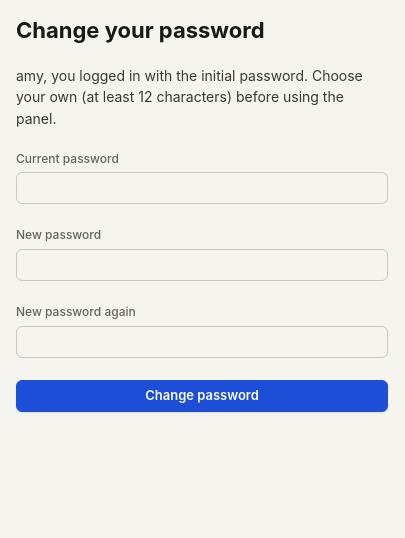
Scenario: AuthGate (spec §7) › checks a short or mistyped new password before sending it
Type "0123456789abcdef" into the password field labelled "Current password" at {"x": 202, "y": 188}, box [16, 172, 388, 204]
Type "short" into the password field labelled "New password" at {"x": 202, "y": 265}, box [16, 249, 388, 281]
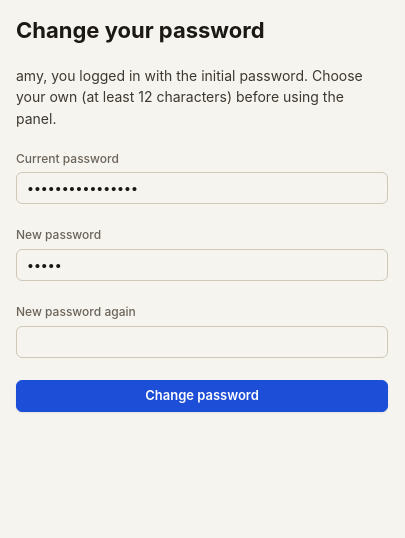
Type "short" into the password field labelled "New password again" at {"x": 202, "y": 342}, box [16, 326, 388, 358]
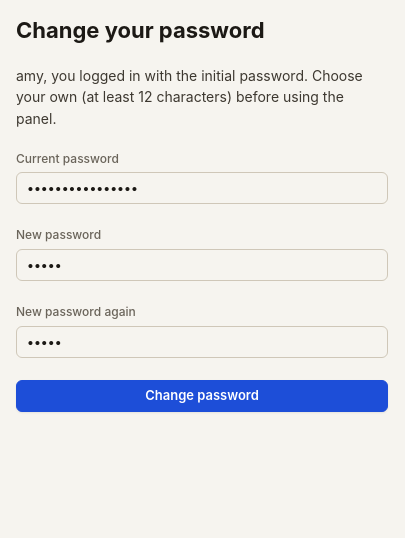
Click the button "Change password" at {"x": 202, "y": 396}, box [16, 380, 388, 412]
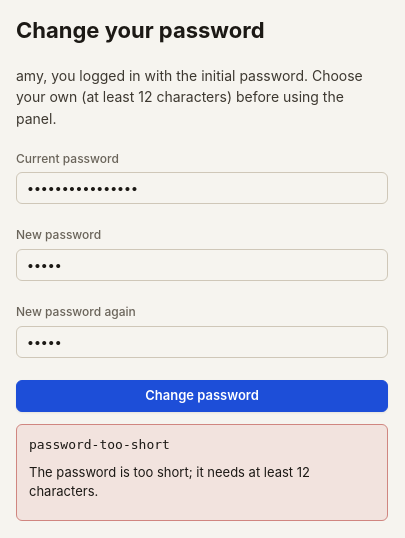
Check: the text "The password is too short; it needs at least 12 characters." is shown, box [29, 464, 310, 499]
Type "a long new password" into the password field labelled "New password" at {"x": 202, "y": 265}, box [16, 249, 388, 281]
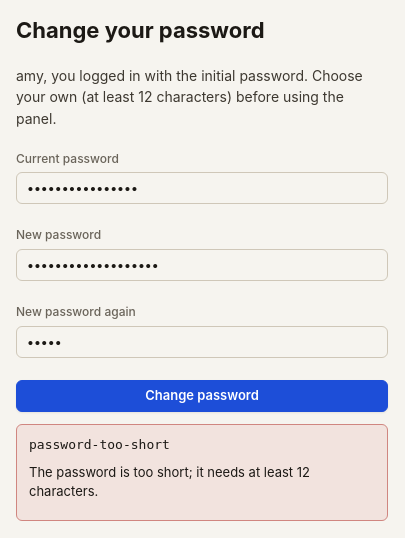
Type "a long new passw0rd" into the password field labelled "New password again" at {"x": 202, "y": 342}, box [16, 326, 388, 358]
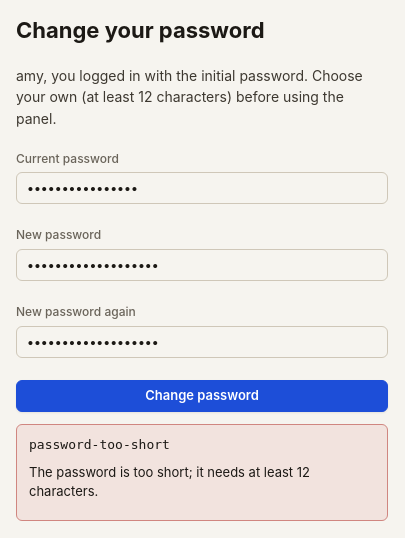
Click the button "Change password" at {"x": 202, "y": 396}, box [16, 380, 388, 412]
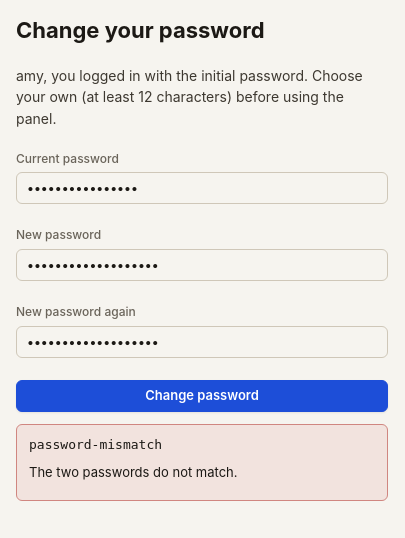
Check: the text "The two passwords do not match." is shown, box [29, 464, 238, 480]
